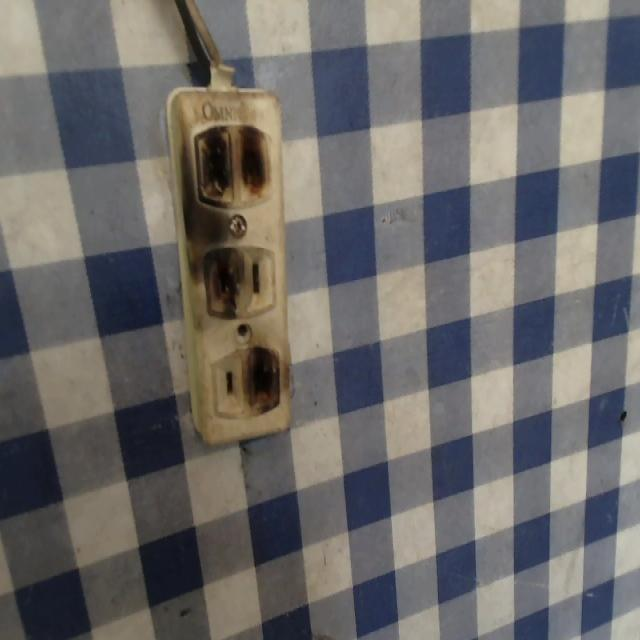-: (173, 115, 275, 221), (194, 237, 253, 323), (237, 334, 285, 422)
